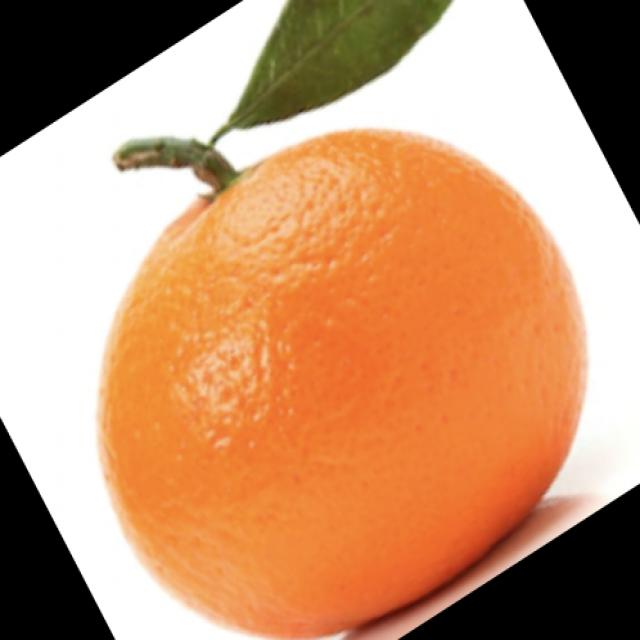fresh: (64, 93, 600, 639)
